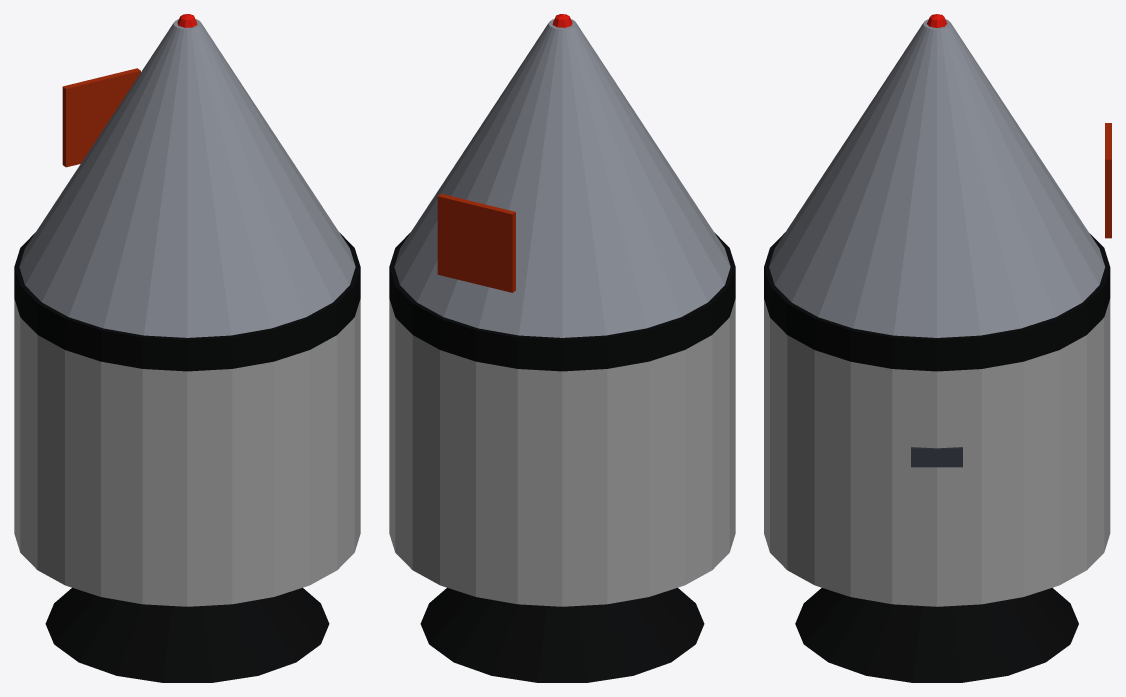
The picture shows the model from 3 angles, left to right: view 1: azimuth 30°, elevation 25°; view 2: azimuth 150°, elevation 25°; view 3: azimuth 270°, elevation 25°; orthographic projection.
Visible parts, largest first — view 1: capsule; view 2: capsule; view 3: capsule.
Boxes of the visible parts, x1,y1,x2,y2 form: capsule: (14, 14, 360, 682); capsule: (389, 14, 735, 682); capsule: (764, 14, 1111, 682).
Bounding box in the file's own units: 0.8948 × 1.74 × 0.8993.
